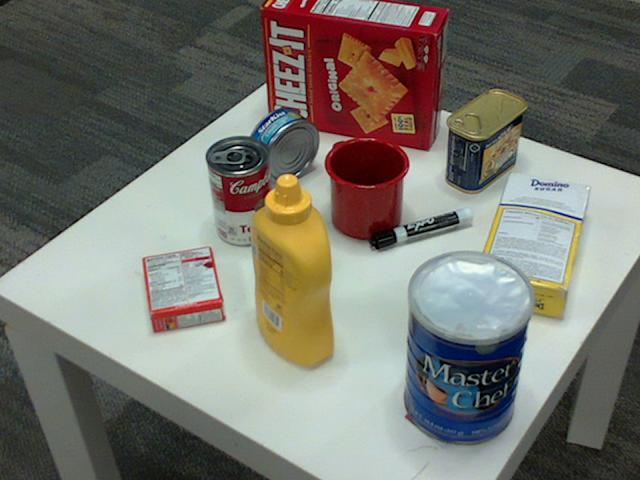cracker_box: (262, 0, 448, 149)
gelatin_box: (138, 245, 221, 332)
large_marker: (370, 211, 474, 249)
master_chef_can: (405, 253, 537, 447)
mug: (322, 135, 408, 238)
mustard_bottle: (250, 175, 332, 366)
potted_meat_can: (444, 91, 525, 194)
sugar_box: (471, 171, 589, 320)
tomato_soup_can: (205, 136, 274, 246)
tuna_fish_can: (245, 107, 318, 184)
